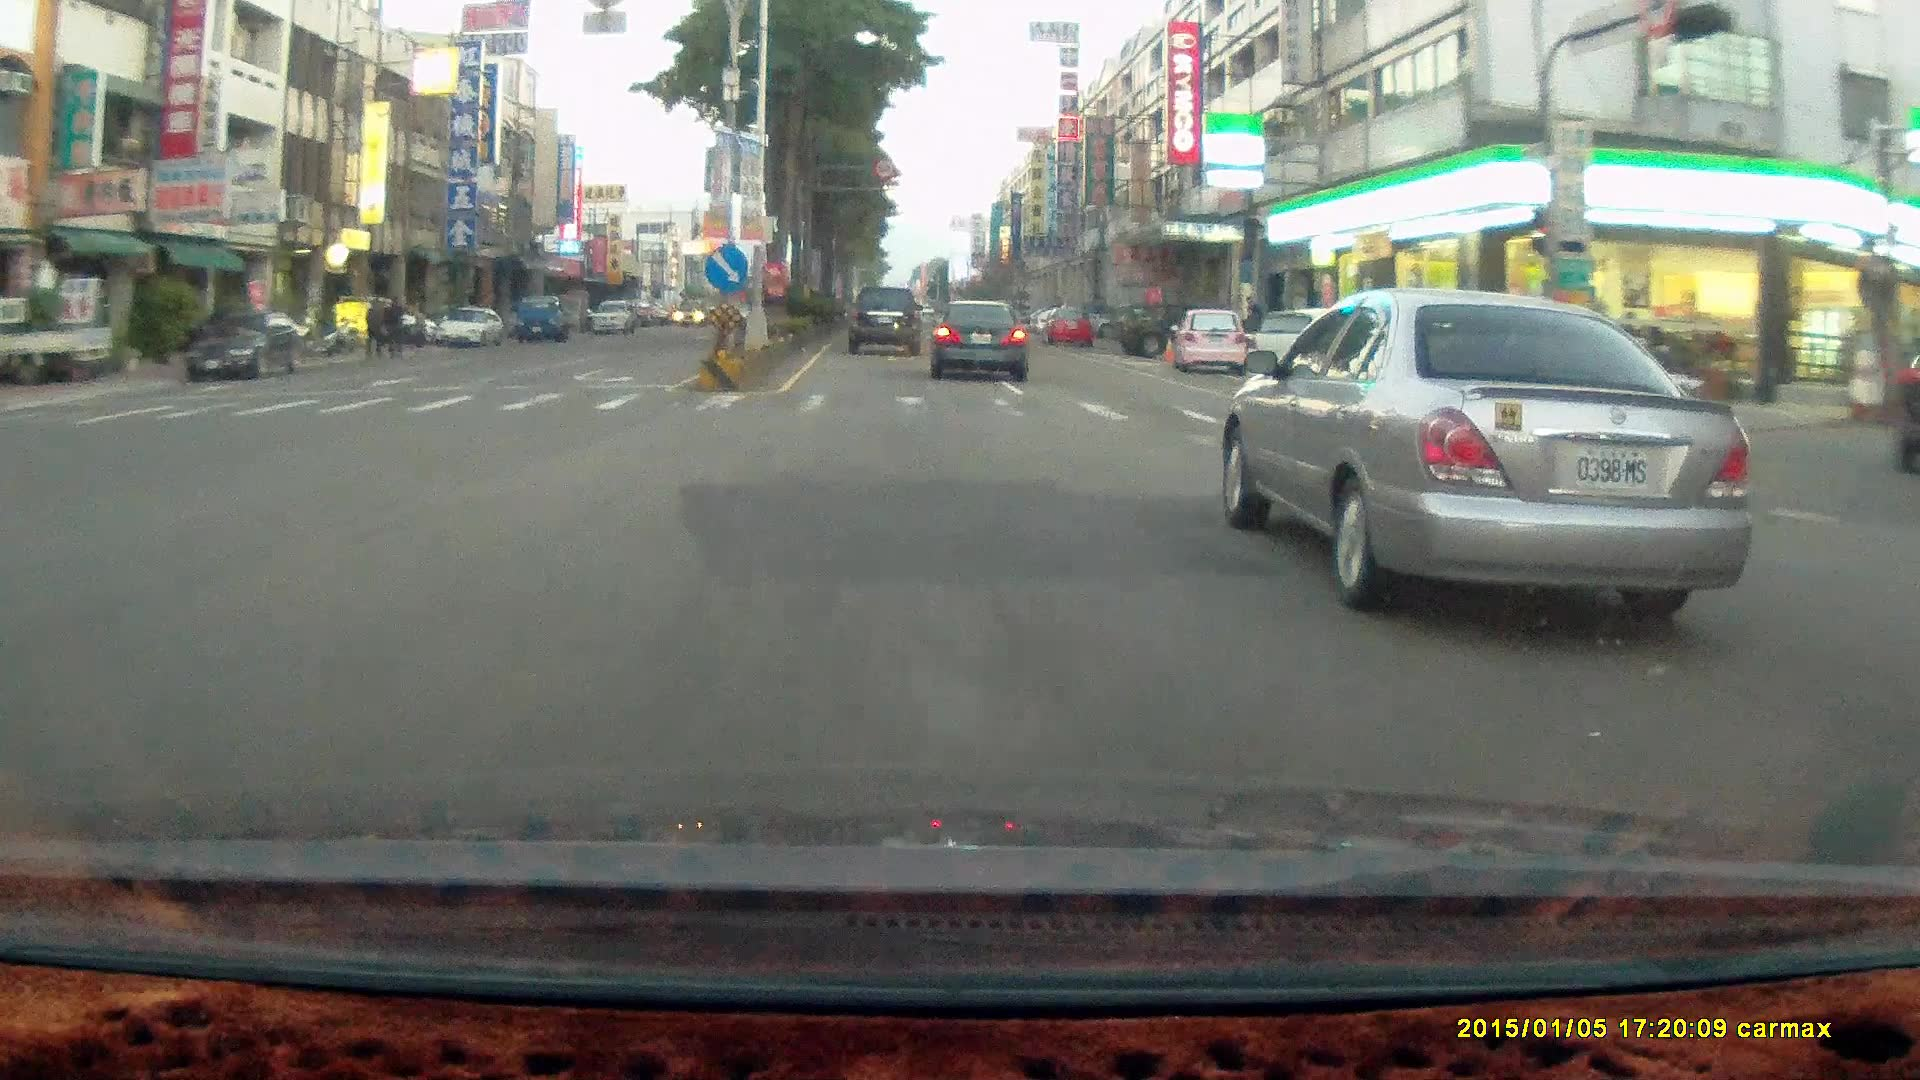pedestrian: (379, 290, 407, 356), (381, 293, 406, 362), (362, 294, 387, 360), (362, 292, 383, 358)
vehicle: (1227, 286, 1757, 626), (1349, 306, 1502, 414), (1247, 305, 1380, 388), (3, 294, 112, 388), (0, 303, 110, 386), (184, 312, 306, 383), (186, 311, 309, 379), (930, 296, 1025, 378), (933, 301, 1031, 380), (846, 285, 926, 358), (1172, 310, 1253, 379), (844, 284, 921, 354), (1169, 309, 1248, 374), (1116, 298, 1198, 354), (433, 307, 505, 351), (516, 294, 581, 342), (434, 305, 502, 346), (515, 291, 568, 340), (1040, 302, 1089, 343), (592, 296, 637, 332)
